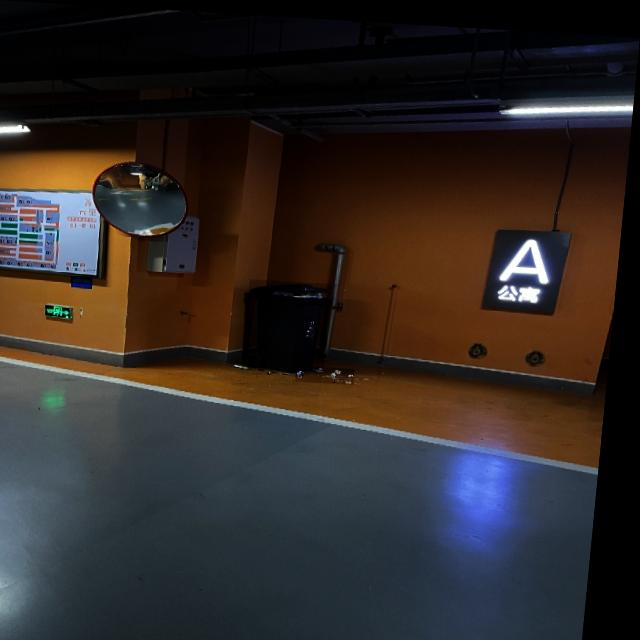garbage: (303, 361, 362, 380)
overflow: (248, 276, 337, 370)
